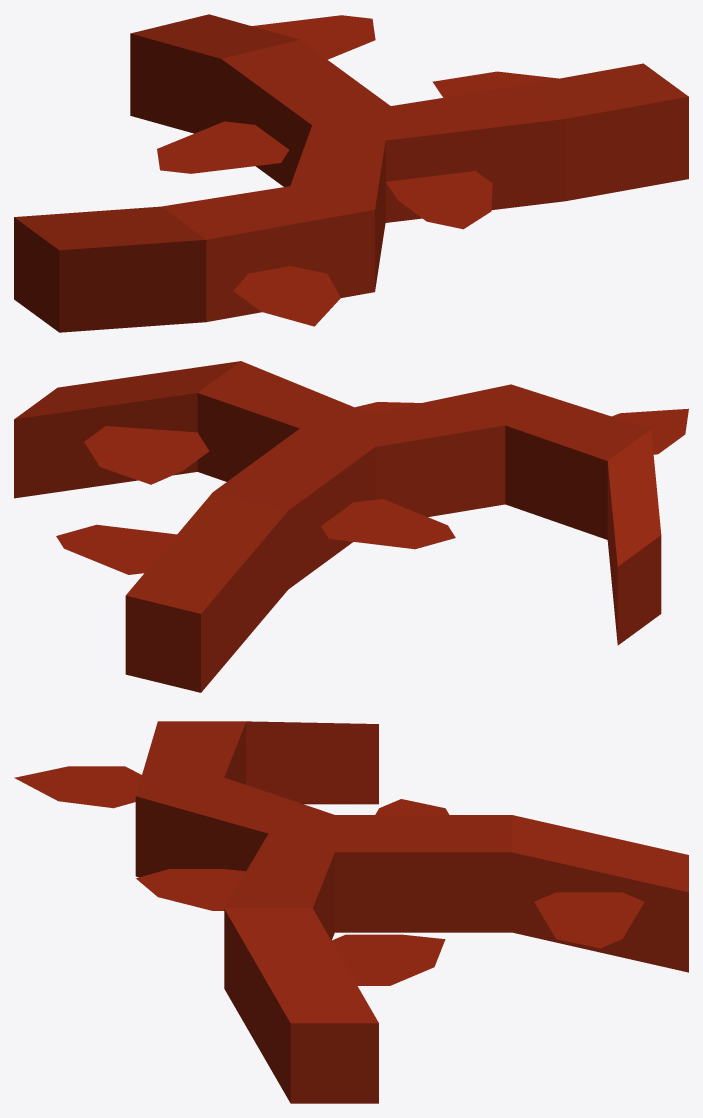
File: obj_vine_9_0.obj
3 views of the same model, one above another, from view 1: azimuth 30°, elevation 25°; view 2: azimuth 150°, elevation 25°; view 3: azimuth 270°, elevation 25° (orthographic). The views are drawn at different scales.
Bounding box in the file's own units: 1 × 0.1875 × 0.9531.
